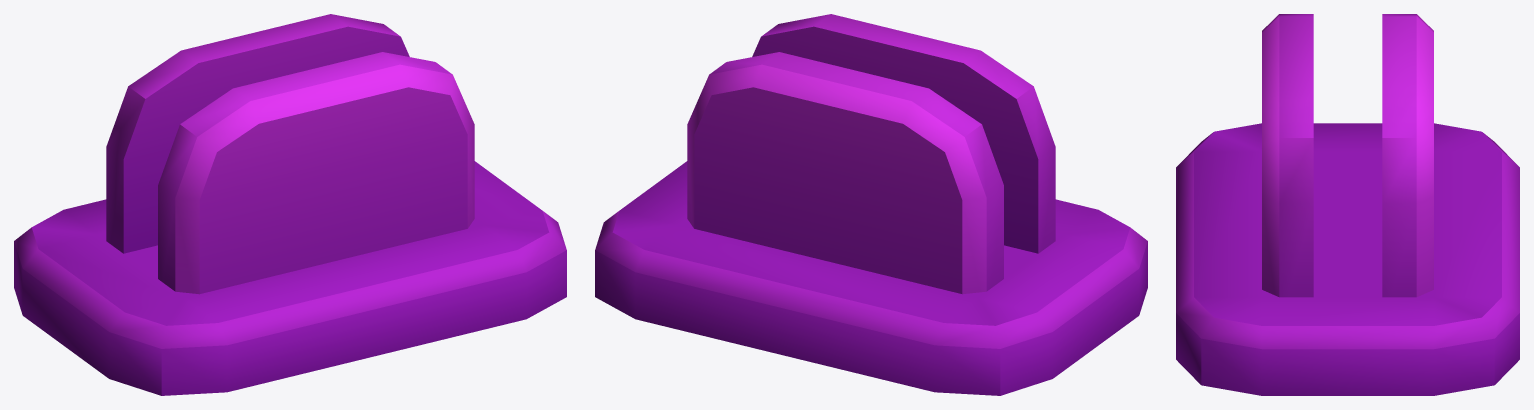
The model's file is playerstand_purple.glb.
3 views of the same model, side by side, from view 1: azimuth 30°, elevation 25°; view 2: azimuth 150°, elevation 25°; view 3: azimuth 270°, elevation 25° (orthographic).
Visible parts, largest first — view 1: playerstand_purple; view 2: playerstand_purple; view 3: playerstand_purple.
Boxes of the visible parts, x1=… form: playerstand_purple: x1=14, y1=14, x2=566, y2=395; playerstand_purple: x1=595, y1=14, x2=1147, y2=395; playerstand_purple: x1=1176, y1=14, x2=1519, y2=395.
Bounding box in the file's own units: 0.75 × 0.375 × 0.5.
1 material, 1 textured.
